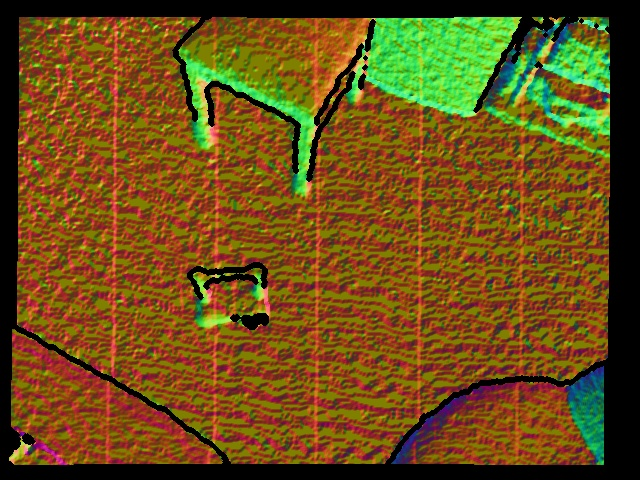station: (189, 267, 273, 326)
